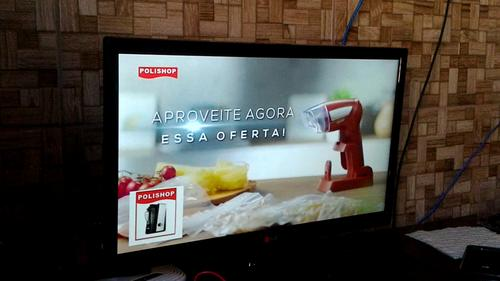Polishop #1: (128, 186, 183, 247)
